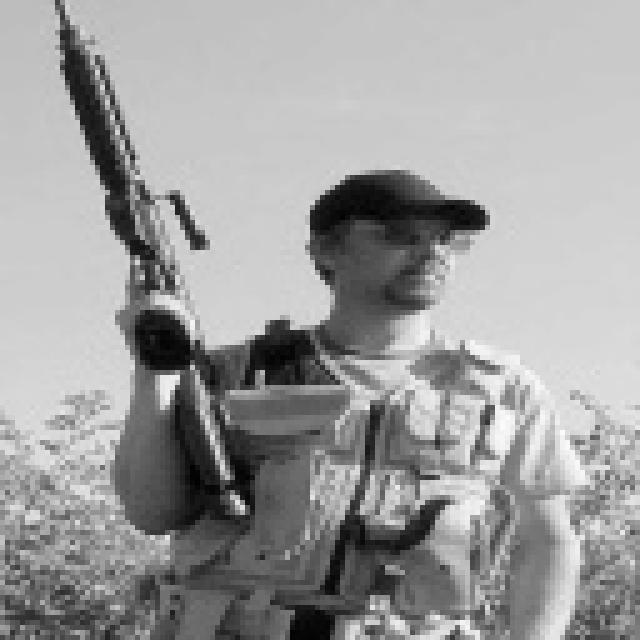Rifle: (0, 0, 295, 561)
